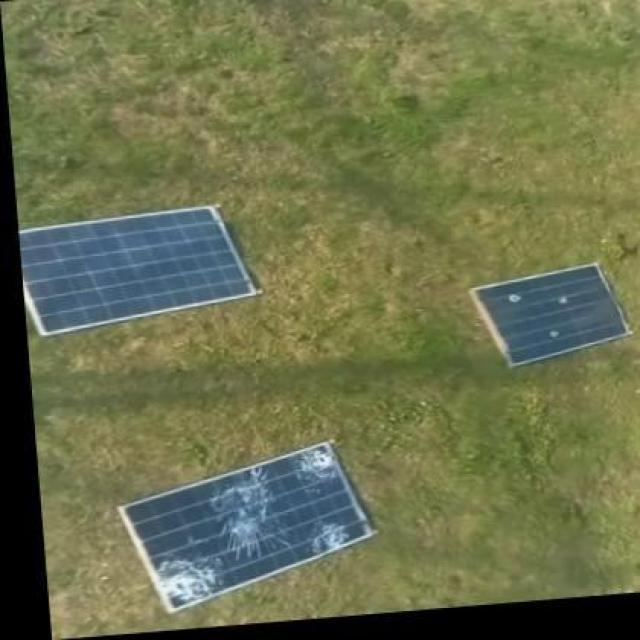cracked: (118, 439, 380, 611)
soiled: (476, 259, 632, 366)
